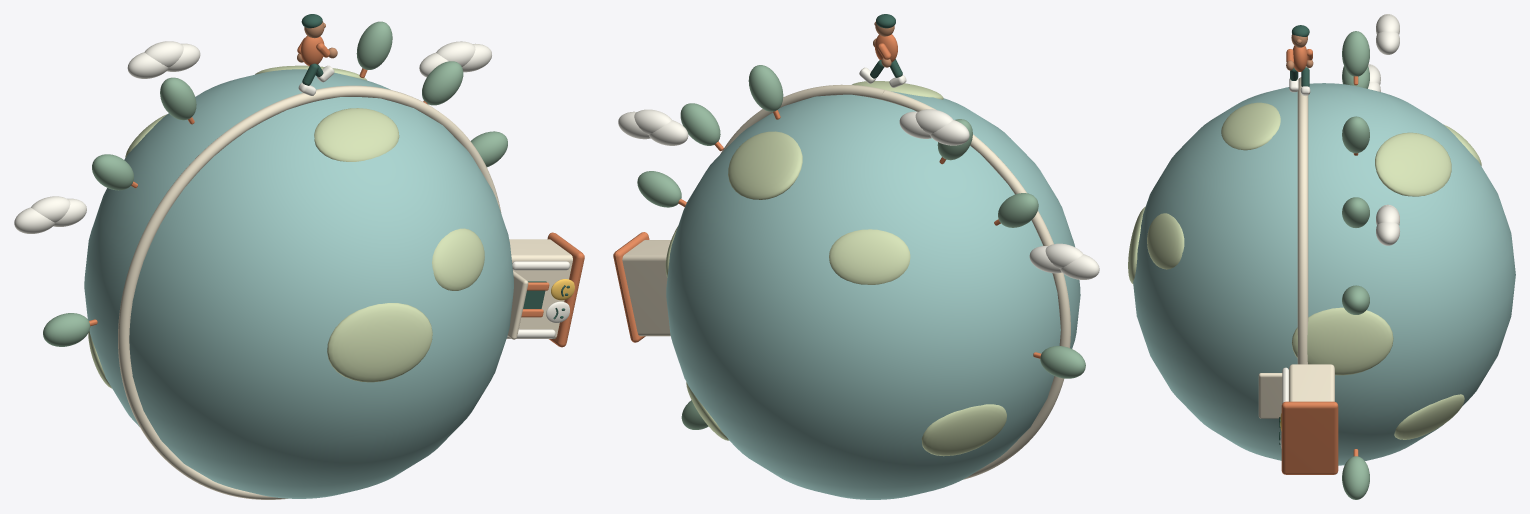
The model's file is castcheck-world.glb.
3 renders of one model, left to right at view 1: azimuth 30°, elevation 25°; view 2: azimuth 150°, elevation 25°; view 3: azimuth 270°, elevation 25°, orthographic. The views are drawn at different scales.
Parts seen in each view (by area): view 1: Little planet, Audition trail, Island_04, Island_01, Theater limestone facade, Island_03, Topiary.003, Topiary.002, Topiary.006, Topiary.001, Topiary, Theater cornice (+7 smaller); view 2: Little planet, Audition trail, Island_00, Island_02, Theater limestone facade, Island_07, Topiary.003, Topiary.002, Topiary.004, Topiary.006, Theater cornice, Topiary (+8 smaller); view 3: Little planet, Island_05, Theater cornice, Island_00, Audition trail, Island_01, Theater limestone facade, Island_03, Island_06, Welcome step, Topiary.001, Topiary.005 (+6 smaller).
Part boxes in pixels (<box>): Little planet: <box>84,69,513,498</box>; Audition trail: <box>118,85,501,499</box>; Island_04: <box>327,303,432,382</box>; Island_01: <box>314,108,399,161</box>; Theater limestone facade: <box>507,239,572,338</box>; Island_03: <box>432,228,484,290</box>; Topiary.003: <box>422,61,463,105</box>; Topiary.002: <box>356,21,392,69</box>; Topiary.006: <box>43,313,90,346</box>; Topiary.001: <box>160,77,196,120</box>; Topiary: <box>92,154,133,190</box>; Theater cornice: <box>547,232,584,347</box>; Little planet: <box>666,91,1080,499</box>; Audition trail: <box>720,84,1070,479</box>; Island_00: <box>728,131,802,199</box>; Island_02: <box>829,229,910,284</box>; Theater limestone facade: <box>622,240,670,336</box>; Island_07: <box>921,404,1006,456</box>; Topiary.003: <box>680,103,720,145</box>; Topiary.002: <box>748,65,783,111</box>; Topiary.004: <box>637,171,681,207</box>; Topiary.006: <box>1040,346,1085,378</box>; Theater cornice: <box>613,232,649,342</box>; Topiary: <box>998,193,1038,227</box>; Little planet: <box>1133,83,1515,465</box>; Island_05: <box>1291,307,1393,375</box>; Theater cornice: <box>1281,401,1338,474</box>; Island_00: <box>1375,132,1451,196</box>; Audition trail: <box>1297,77,1308,364</box>; Island_01: <box>1221,102,1280,150</box>; Theater limestone facade: <box>1289,364,1334,401</box>; Island_03: <box>1147,213,1184,269</box>; Island_06: <box>1394,394,1464,439</box>; Welcome step: <box>1258,373,1282,418</box>; Topiary.001: <box>1342,31,1369,76</box>; Topiary.005: <box>1342,456,1369,499</box>.
Bounding box in the file's own units: 8.42 × 7.38 × 6.07.
